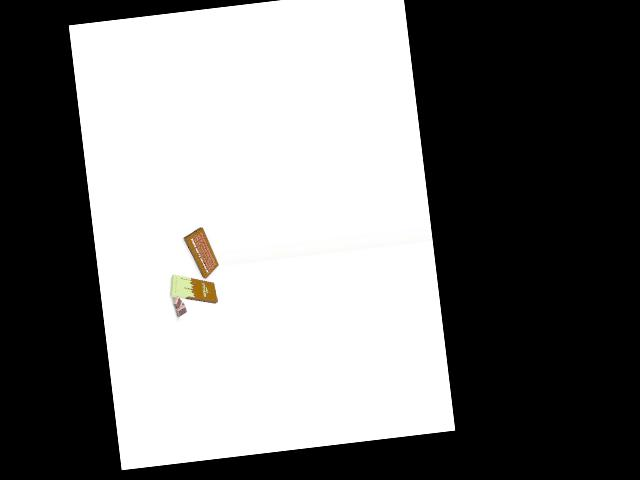chocolate: (166, 272, 218, 305)
